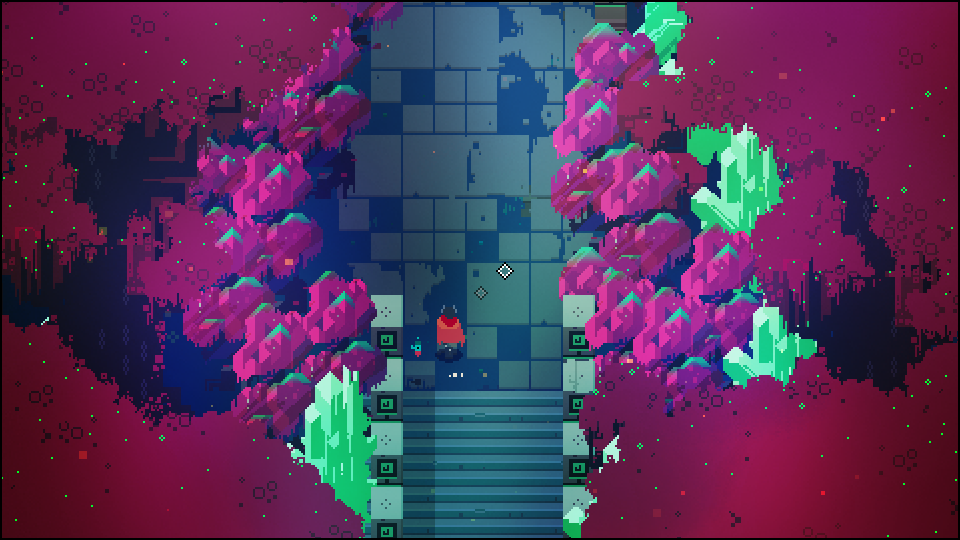player: (435, 303, 465, 355)
